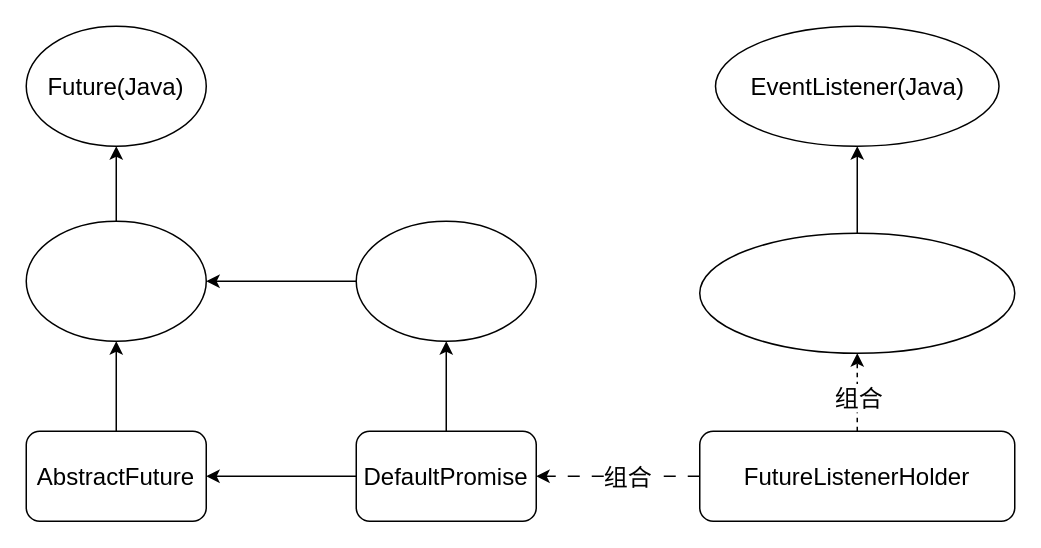
This 1041x548 diagram has some shape labels left out. The centre of each missing label's shape, as x and y in pixels:
Future: point 115,280
GenericFutureListener: point 856,292
Promise: point 445,280
